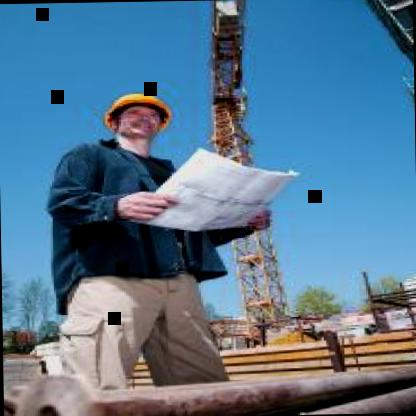helmet: (88, 82, 180, 150)
